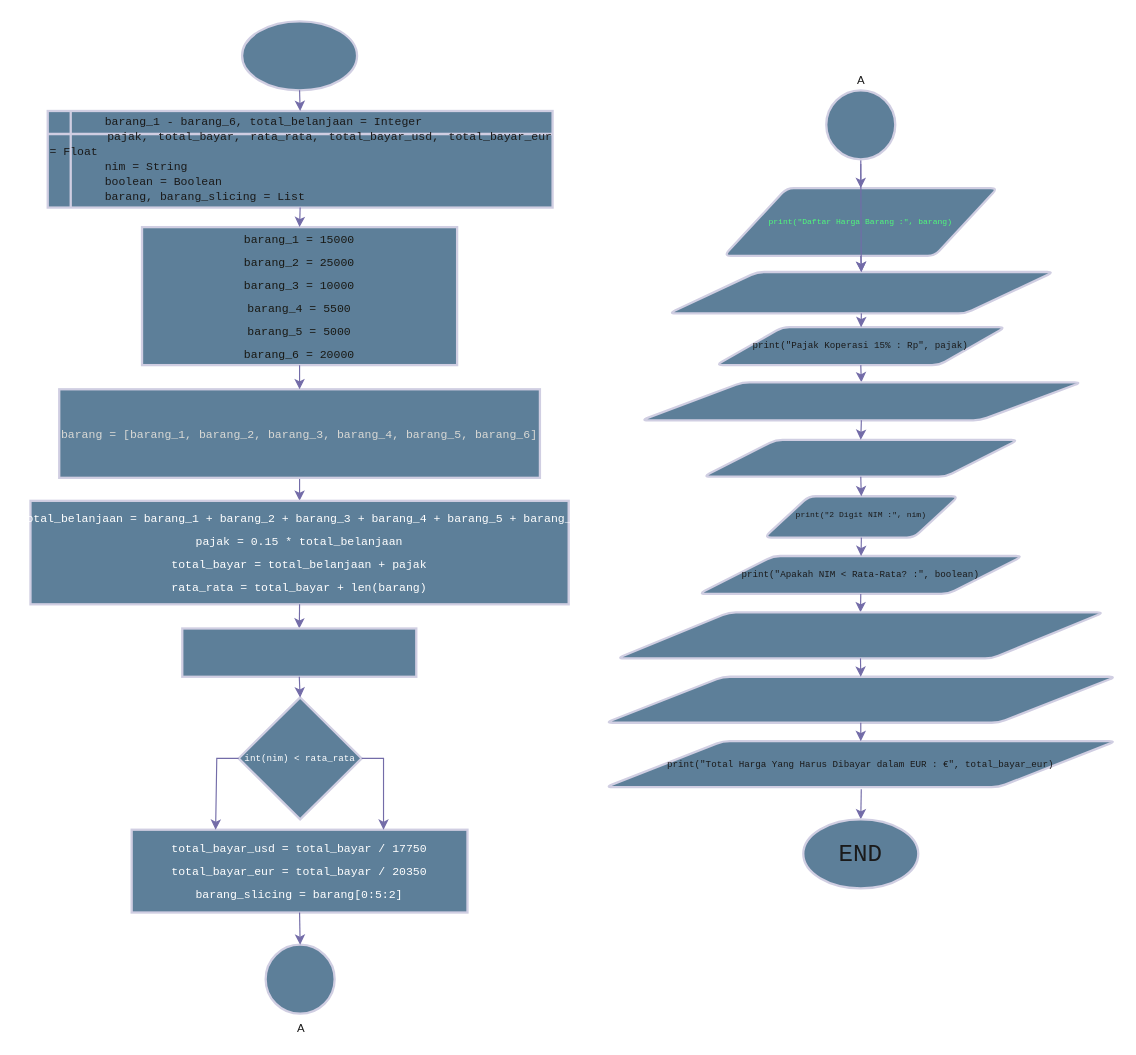
Image size: 1136x1055. Some labels were removed from this diagram. The shapes that lost their labels are listed below. From the top down, each one's centre as x and y in pixels, then its label:
(299,55): START
(861,292): print("Total Belanjaan Sebelum Pajak : Rp", total_belanjaan)
(860,401): print("Total Harga Yang Harus Dibayar : Rp", total_bayar)
(860,457): print("Rata-rata Harga Barang : Rp", rata_rata)
(299,652): nim = "06" boolean = int(nim) < rata_rata
(860,635): print("Daftar Harga Barang 1, 3, 5 (Slicing) :", barang_slicing)
(860,699): print("Total Harga Yang Harus Dibayar dalam USD : $", total_bayar_usd)
